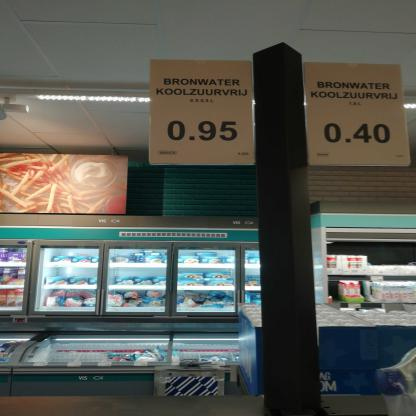prtg: (150, 60, 257, 166), (304, 63, 412, 167)
